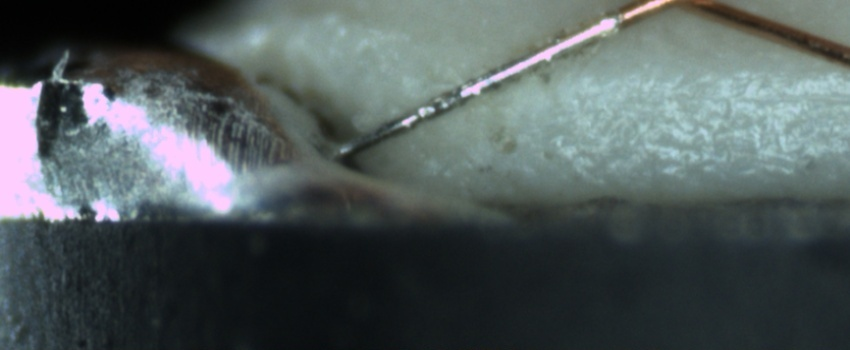CL: (633, 0, 722, 17)
DL: (528, 59, 850, 123)
TS: (333, 12, 620, 159)
